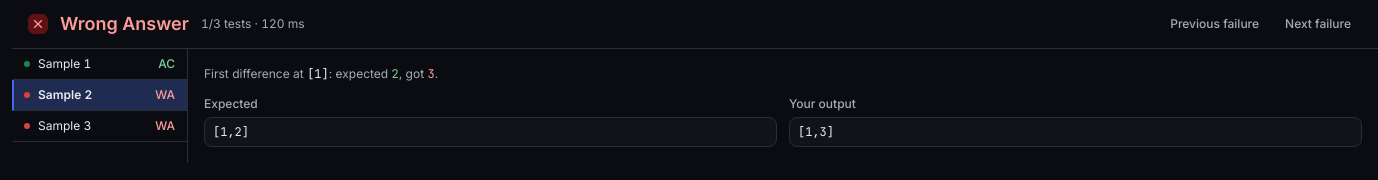
Scenario: failures › steps between failures from the keyboard
The width and height of the screenshot is (1378, 180).
// From the second test (the first failure) to the third.
Click the button "Next failure". click: point(1318, 24)
box: 1274,10 -> 1362,38
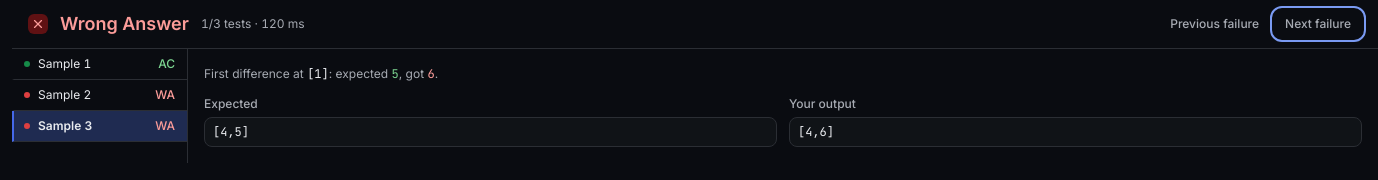
Now the element with test id "first-difference" shows "expected 5", box 204,66 -> 438,82
Now the element with test id "first-difference" shows "got 6", box 204,66 -> 438,82
